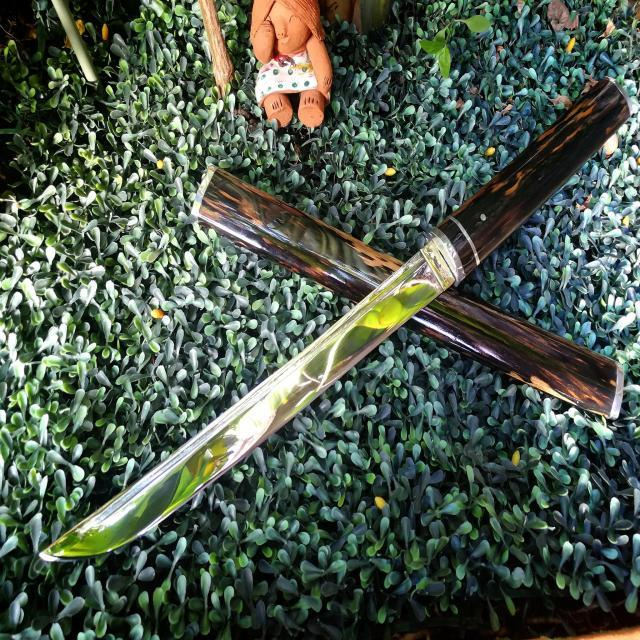short sword: (34, 81, 632, 581)
